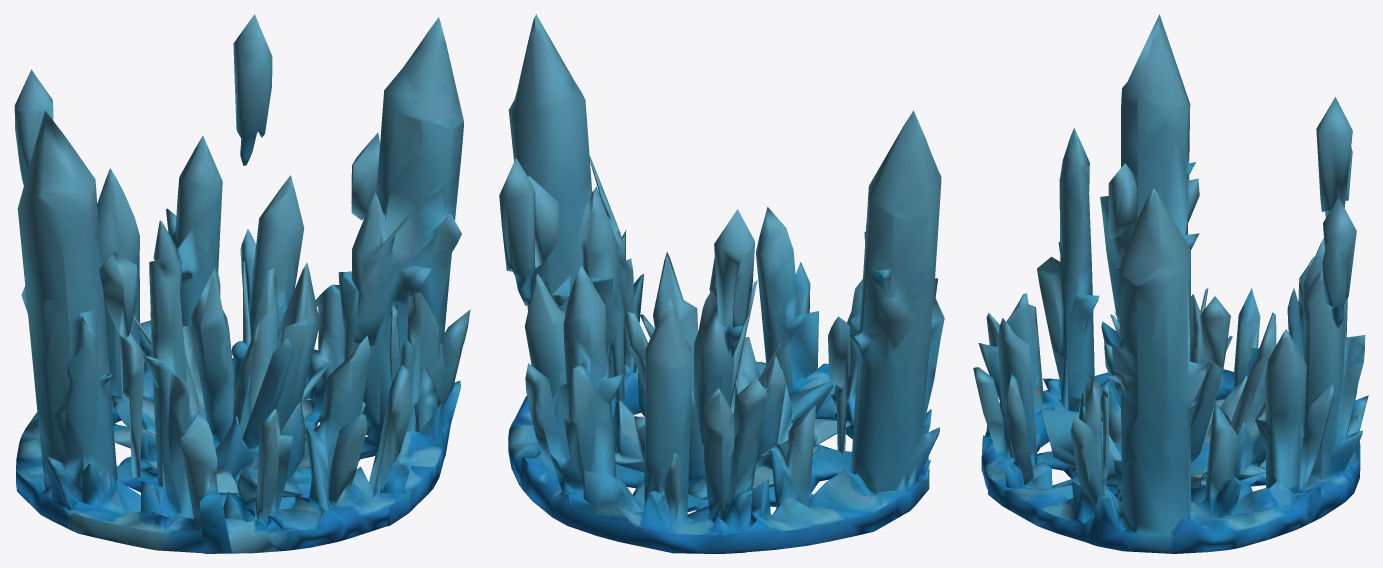
File: ice_c.glb
3 views of the same model, side by side, from view 1: azimuth 30°, elevation 25°; view 2: azimuth 150°, elevation 25°; view 3: azimuth 270°, elevation 25° (orthographic). The views are drawn at different scales.
Visible parts, largest first — view 1: tripo_node_45ca7faa-117c-485f-8b66-16af47c9d957; view 2: tripo_node_45ca7faa-117c-485f-8b66-16af47c9d957; view 3: tripo_node_45ca7faa-117c-485f-8b66-16af47c9d957.
Part boxes in pixels (x1,y1,x2,y2): tripo_node_45ca7faa-117c-485f-8b66-16af47c9d957: [14, 14, 470, 553]; tripo_node_45ca7faa-117c-485f-8b66-16af47c9d957: [499, 14, 944, 553]; tripo_node_45ca7faa-117c-485f-8b66-16af47c9d957: [973, 14, 1368, 553].
Bounding box in the file's own units: 0.9797 × 0.8878 × 0.8559.
Materials: 1 (1 with a texture image).
